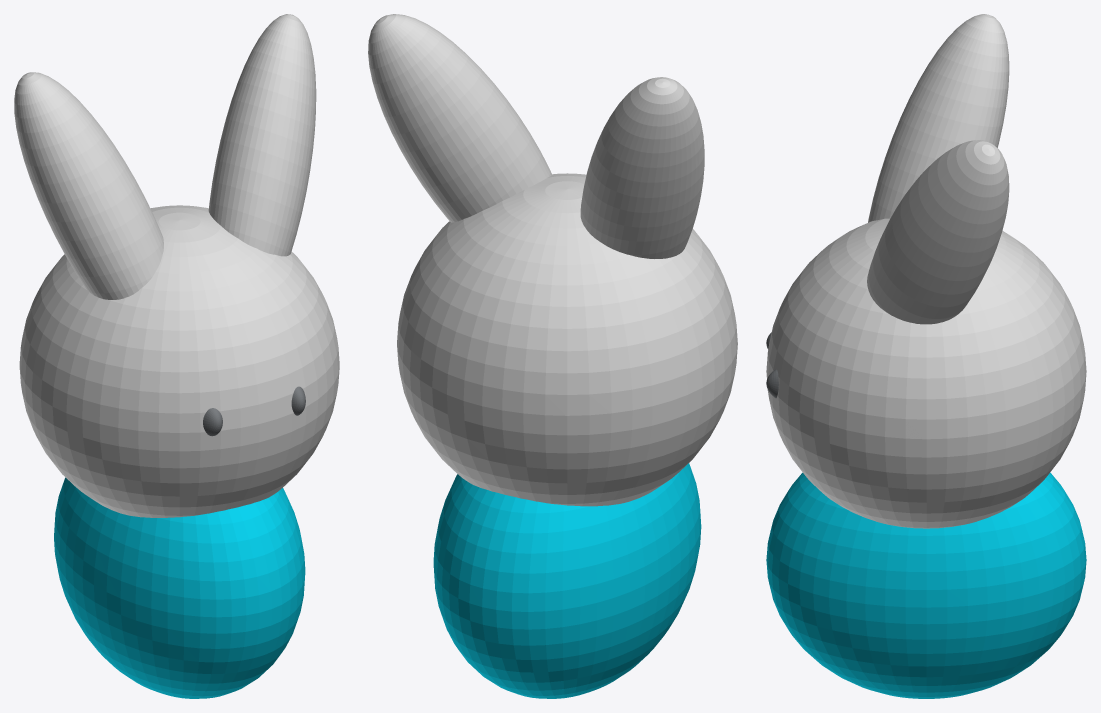
The model's file is bunny.glb.
The picture shows the model from 3 angles, left to right: view 1: azimuth 30°, elevation 25°; view 2: azimuth 150°, elevation 25°; view 3: azimuth 270°, elevation 25°; orthographic projection. The views are drawn at different scales.
Parts seen in each view (by area): view 1: obj_0, obj_5, obj_1, obj_2; view 2: obj_0, obj_5, obj_2, obj_1; view 3: obj_0, obj_5, obj_2, obj_1.
Boxes of the visible parts, x1,y1,x2,y2 form: obj_0: [19, 205, 339, 517]; obj_5: [54, 477, 305, 698]; obj_1: [14, 72, 163, 299]; obj_2: [208, 14, 316, 256]; obj_0: [397, 173, 737, 506]; obj_5: [433, 463, 701, 698]; obj_2: [368, 14, 551, 222]; obj_1: [580, 77, 704, 258]; obj_0: [766, 218, 1086, 528]; obj_5: [766, 472, 1086, 698]; obj_2: [867, 140, 1009, 324]; obj_1: [868, 14, 1009, 222].
Bounding box in the file's own units: 21.21 × 42.57 × 20.
